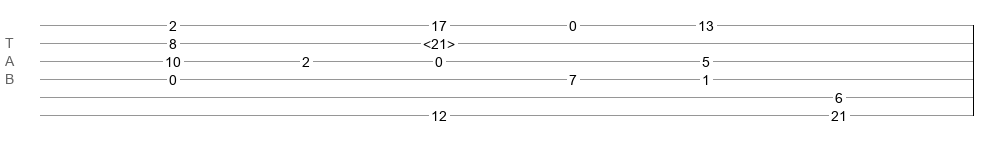0: (169, 72, 177, 82), (435, 54, 443, 64), (569, 18, 577, 28)
1: (702, 72, 710, 82)
10: (165, 54, 181, 64)
12: (431, 108, 447, 118)
13: (698, 18, 714, 28)
17: (431, 18, 447, 28)
2: (169, 18, 177, 28), (302, 54, 310, 64)
21: (831, 108, 847, 118)
5: (702, 54, 710, 64)
6: (835, 90, 843, 100)
7: (569, 72, 577, 82)
8: (169, 36, 177, 46)
harmonic: (423, 36, 455, 46)
